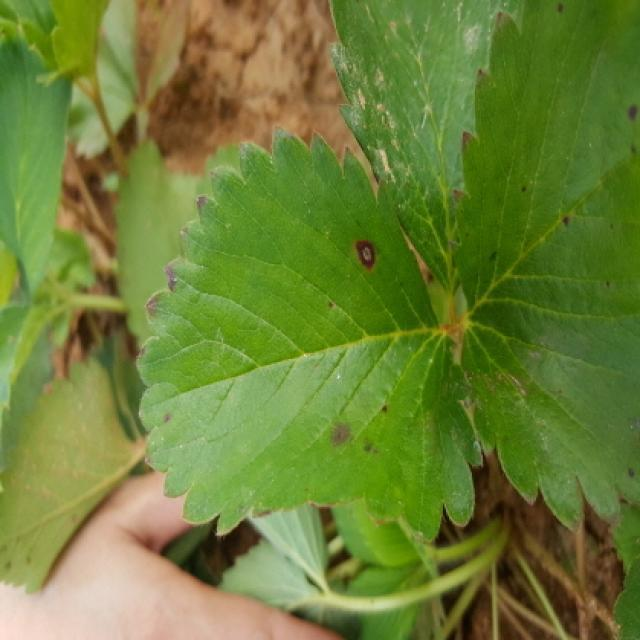Leaf Spot: (135, 125, 486, 544), (447, 0, 638, 533)
